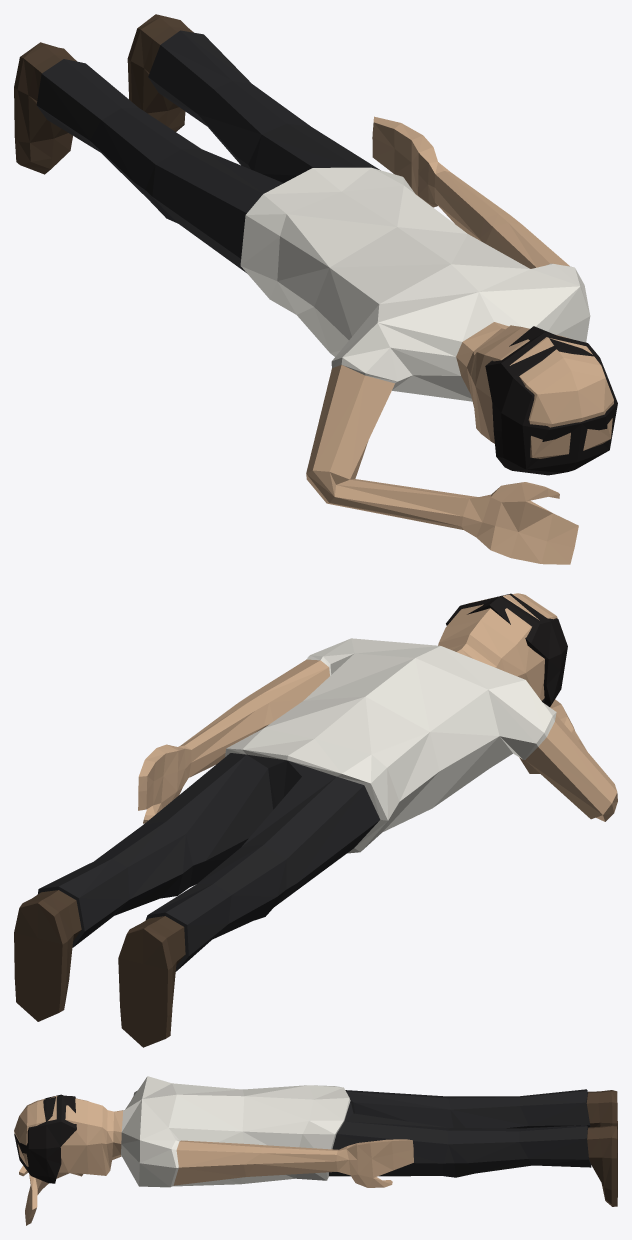
Rendered from man-covering-eyes.obj.
The picture shows the model from 3 angles, top to bottom: view 1: azimuth 30°, elevation 25°; view 2: azimuth 150°, elevation 25°; view 3: azimuth 270°, elevation 25°; orthographic projection. The views are drawn at different scales.
Parts seen in each view (by area): view 1: man-covering-eyes; view 2: man-covering-eyes; view 3: man-covering-eyes.
Part boxes in pixels (x1,y1,x2,y2): man-covering-eyes: (14,14,617,564); man-covering-eyes: (14,593,617,1047); man-covering-eyes: (14,1076,617,1225).
Bounding box in the file's own units: 26.57 × 17.13 × 71.18.
